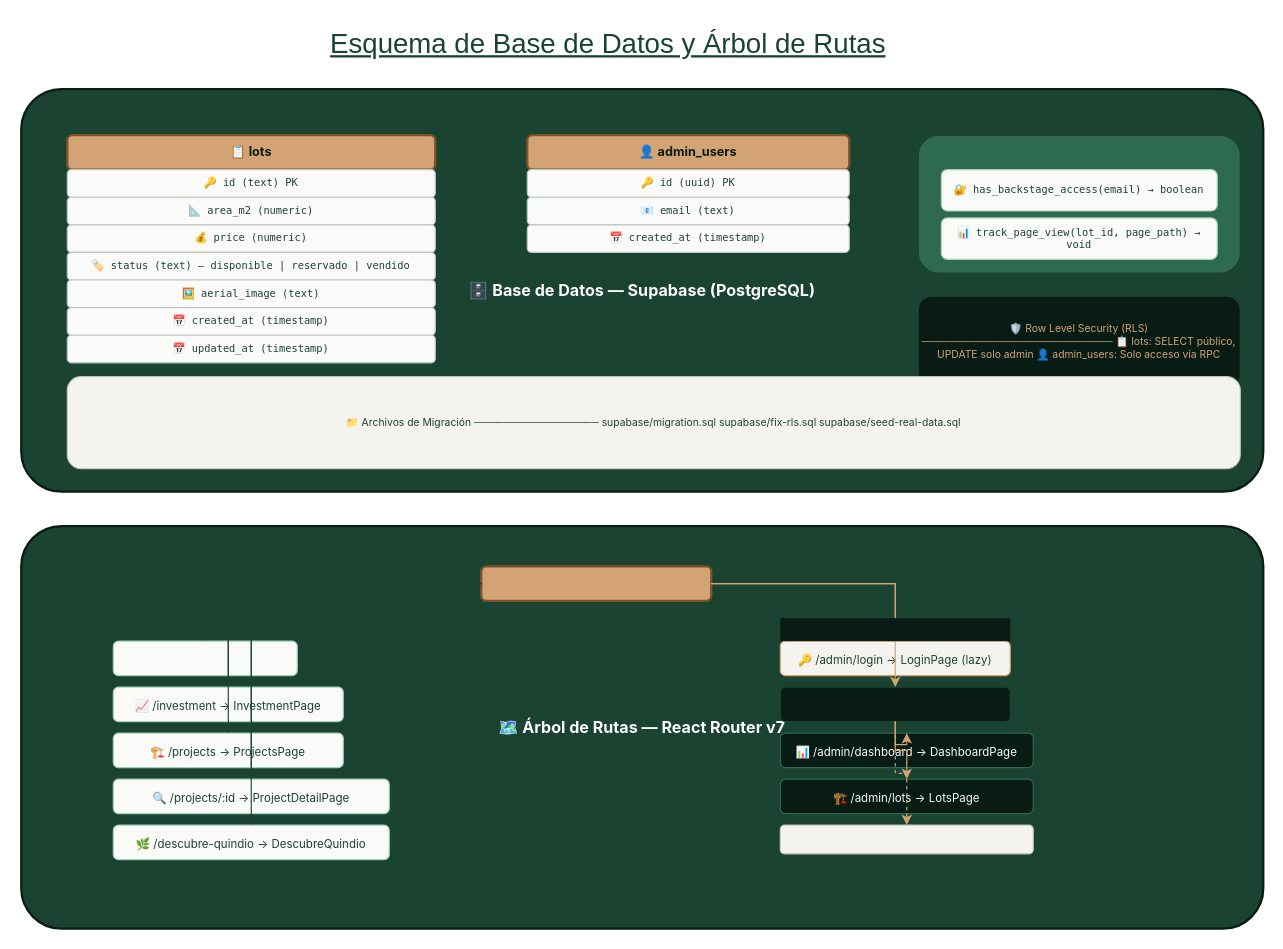
This 1283x949 diagram has some shape labels left out. Here are the shapes that lost their labels. From the top down, the centre of each, then its label:
the point at 596,583: 🗂️ / — RootLayout
the point at 895,629: ⚡ React.lazy() + Suspense
the point at 204,658: 🏠 / → HomePage
the point at 894,704: 🛡️ /admin → AdminGuard (lazy)
the point at 906,839: ↪️ /admin → Redirect a /dashboard
